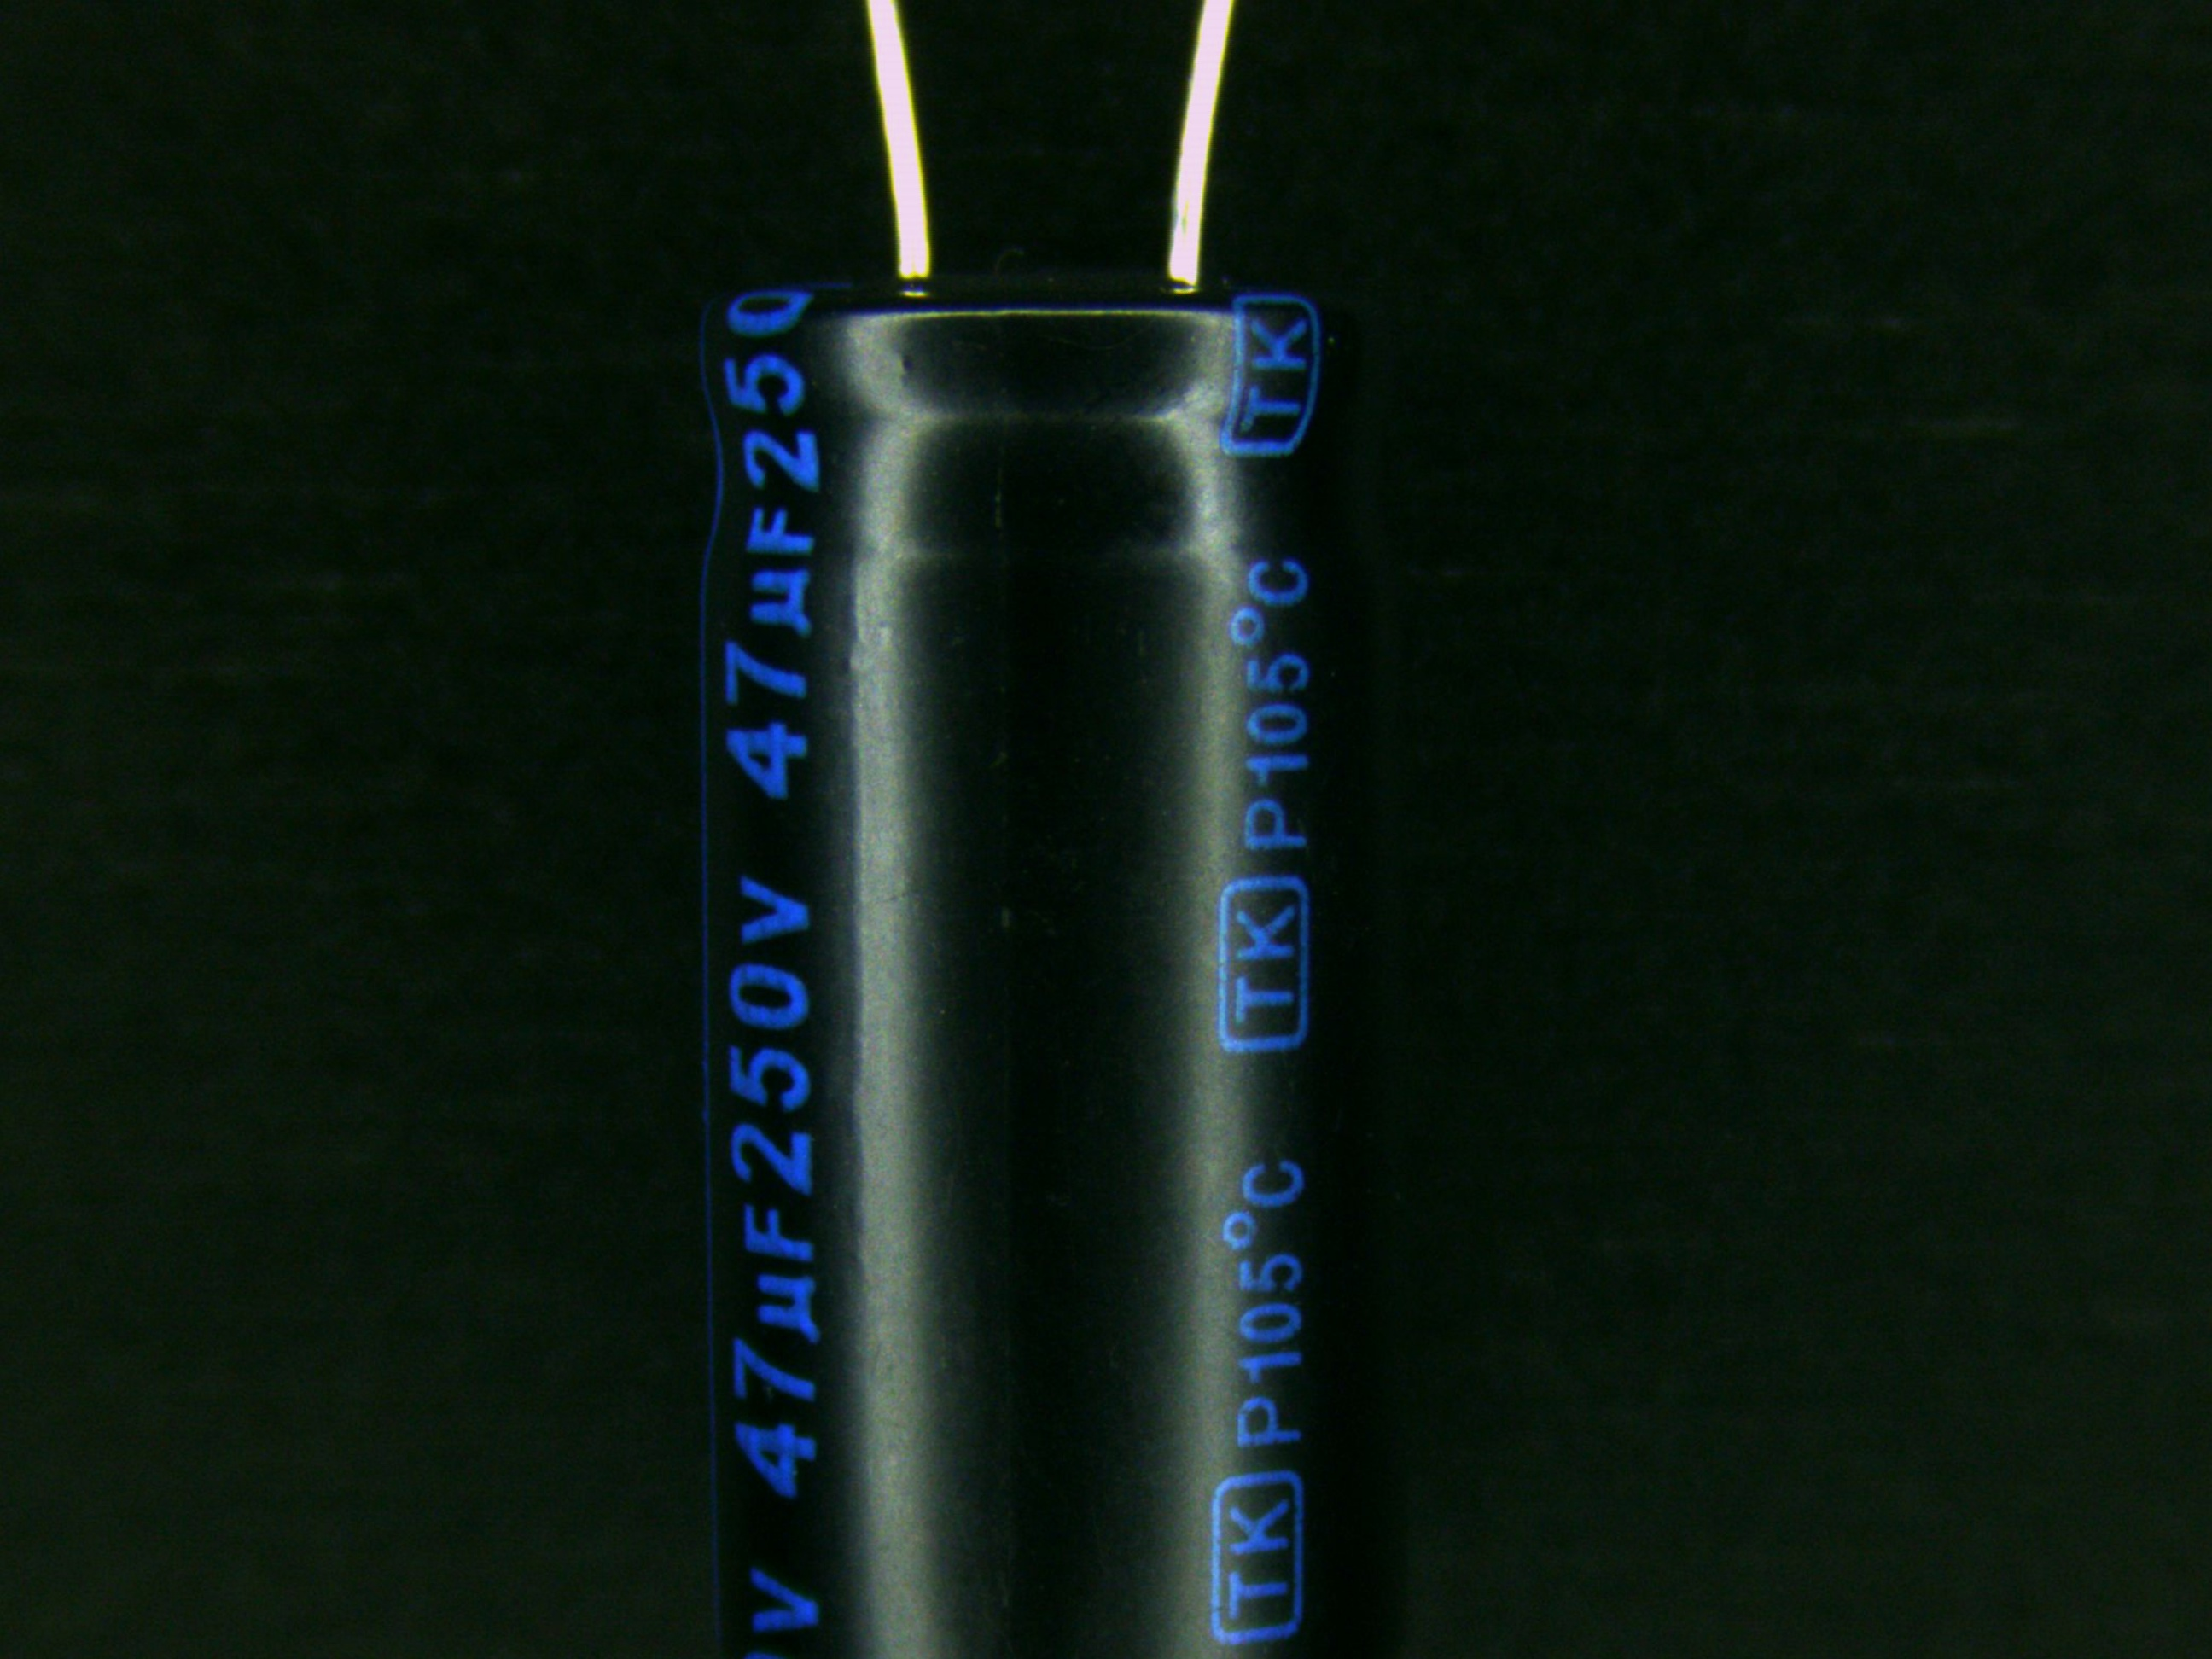c2: (693, 125, 1409, 1659)
